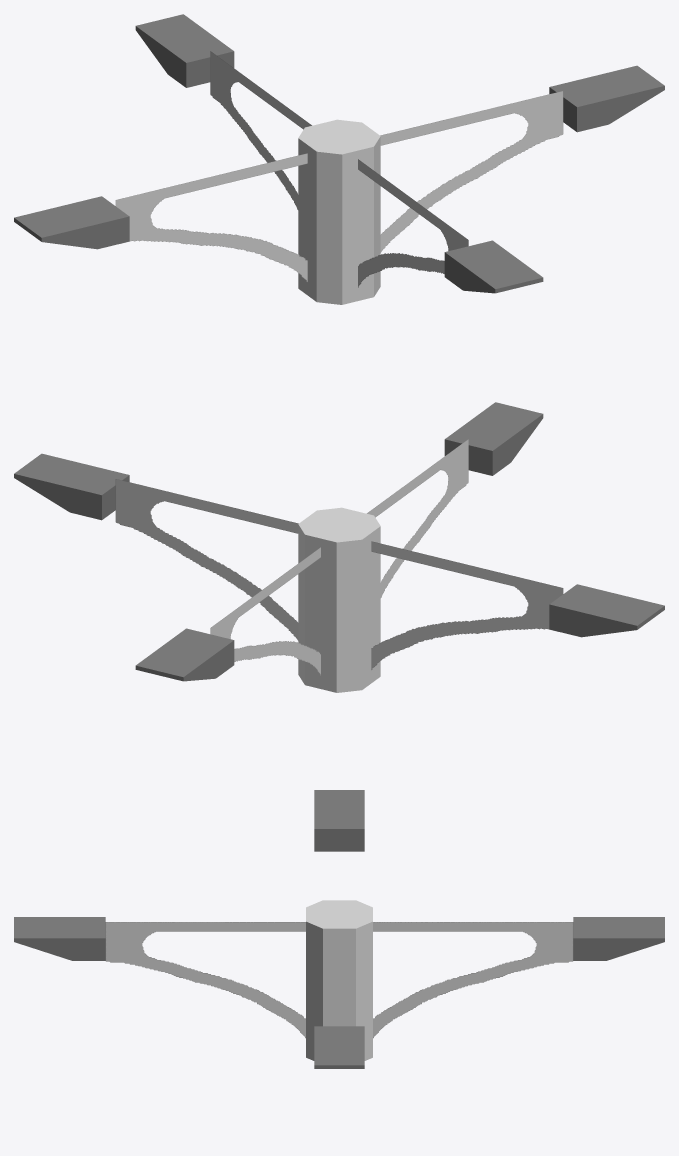
The model's file is dc_metro_roof_e_pillar_light.obj.
The picture shows the model from 3 angles, top to bottom: view 1: azimuth 30°, elevation 25°; view 2: azimuth 150°, elevation 25°; view 3: azimuth 270°, elevation 25°; orthographic projection. The views are drawn at different scales.
Visible parts, largest first — view 1: bar, lamp, pole; view 2: bar, lamp, pole; view 3: lamp, bar, pole.
Boxes of the visible parts, box(x1,y1,x2,y2) form: bar: box(115, 51, 563, 287); lamp: box(14, 14, 664, 293); pole: box(298, 119, 380, 304); bar: box(115, 439, 563, 675); lamp: box(14, 402, 664, 681); pole: box(298, 507, 380, 692); lamp: box(14, 790, 664, 1068); bar: box(105, 922, 573, 1038); pole: box(306, 900, 372, 1060).
Bounding box in the file's own units: 4.88 × 1.12 × 4.88.
2 materials, 2 textured.
